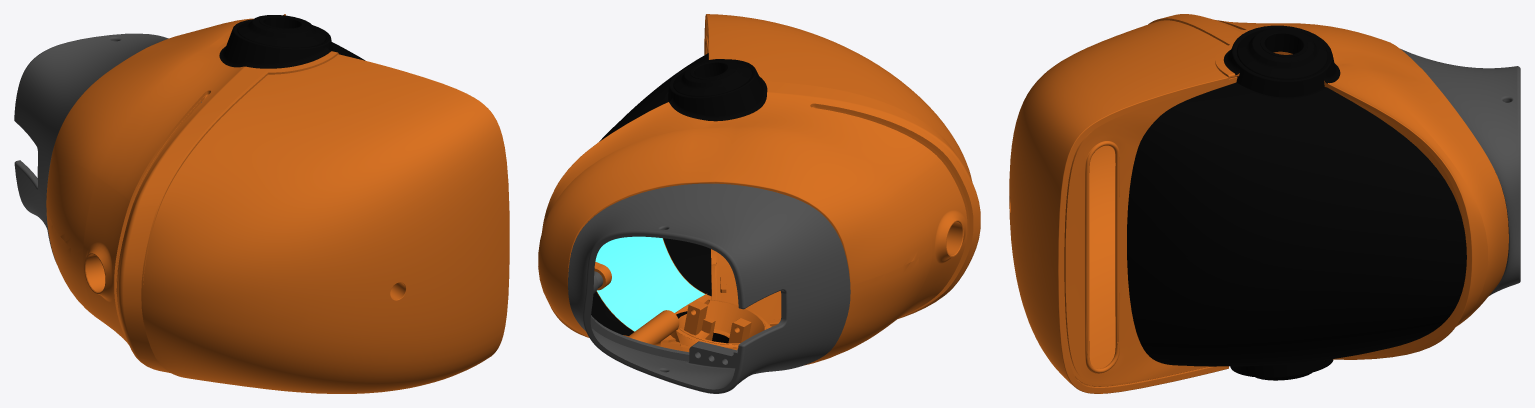
The model's file is head_pitch.glb.
The picture shows the model from 3 angles, left to right: view 1: azimuth 30°, elevation 25°; view 2: azimuth 150°, elevation 25°; view 3: azimuth 270°, elevation 25°; orthographic projection. The views are drawn at different scales.
Visible parts, largest first — view 1: wrab0402000; view 2: wrab0402000; view 3: wrab0402000.
Part boxes in pixels (x1,y1,x2,y2): wrab0402000: (14, 14, 509, 393); wrab0402000: (538, 14, 980, 393); wrab0402000: (1009, 14, 1520, 393).
Bounding box in the file's own units: 0.1838 × 0.166 × 0.2288.
